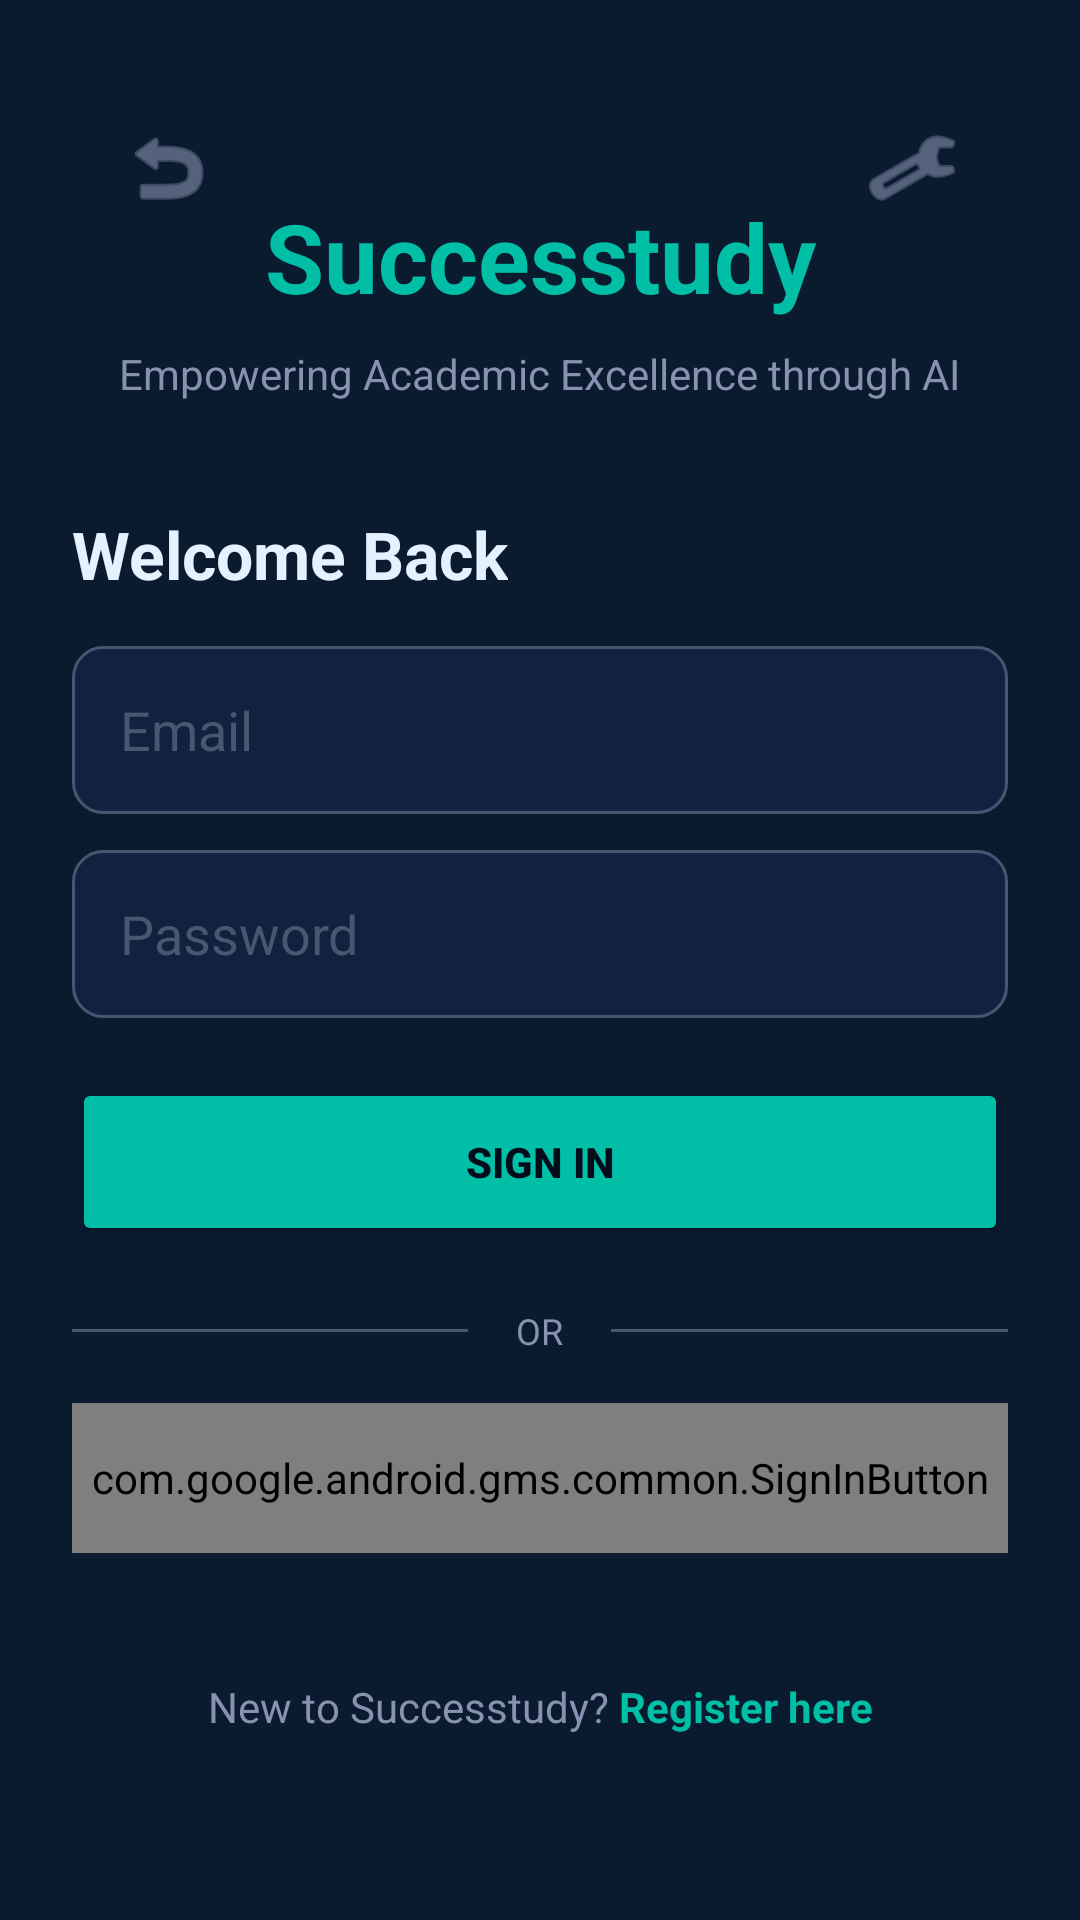

Icon bounding boxes for this 1080×1920 phone screenshot, format (x1, y1, x2, y2):
Back to Home: (135, 138, 204, 200)
SMTP Settings: (869, 135, 955, 201)
